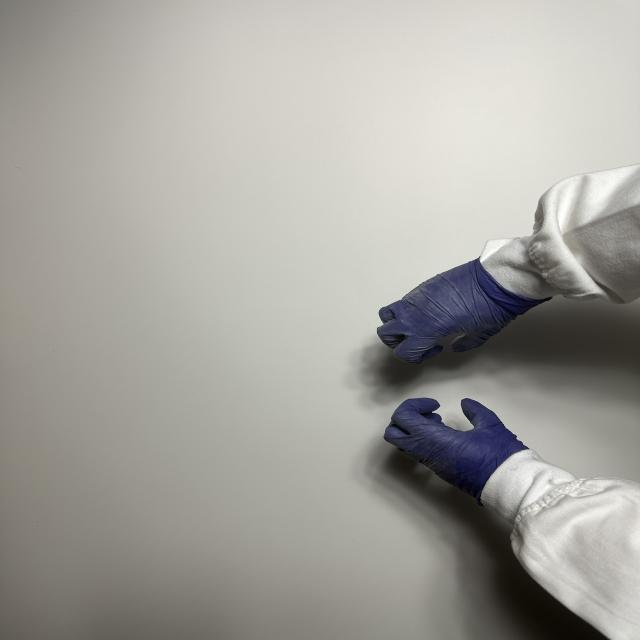gloves_contaminated: (378, 258, 541, 364), (384, 398, 528, 503)
